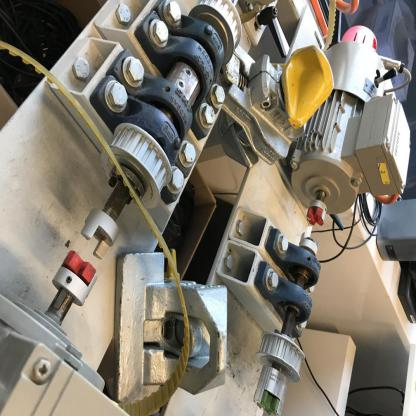Twistlock: (111, 219, 229, 409), (221, 36, 336, 174)
